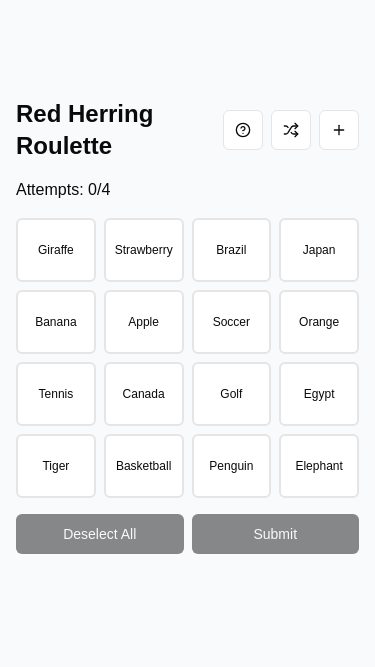
Test: Home Page › Failed Guesses › should show a hint when user is one word off from a category
Click the button "Apple".
click(144, 322)  # box [104,290,184,354]
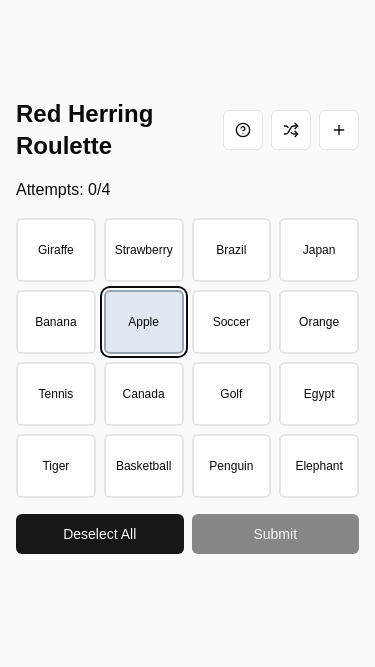
Click the button "Banana".
click(56, 322)  # box [16,290,96,354]
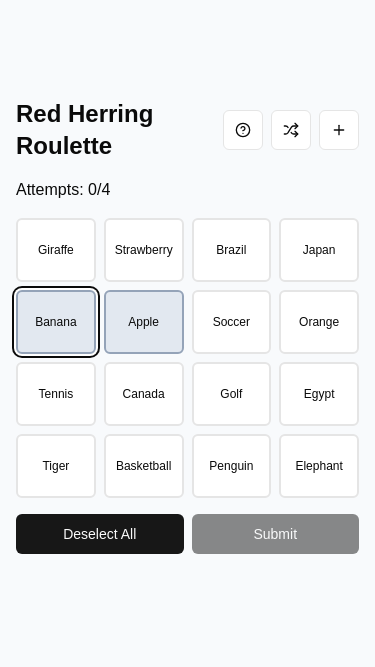
Click the button "Orange".
click(319, 322)  # box [279,290,359,354]
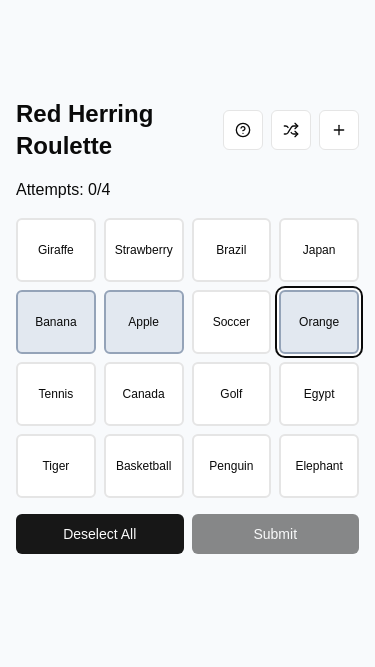
Click the button "Tiger".
click(56, 466)  # box [16,434,96,498]
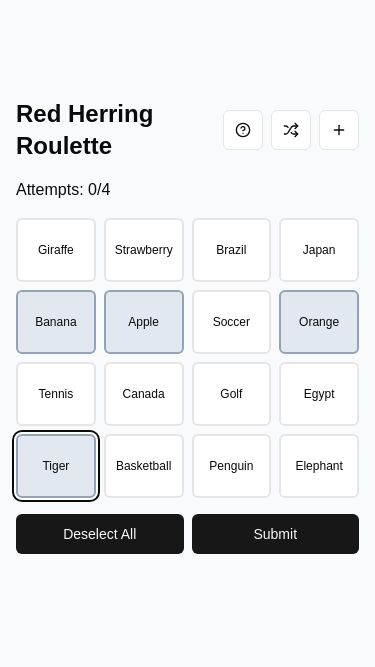
Click the button with test id "submit-button".
click(276, 534)  # box [192,514,360,554]
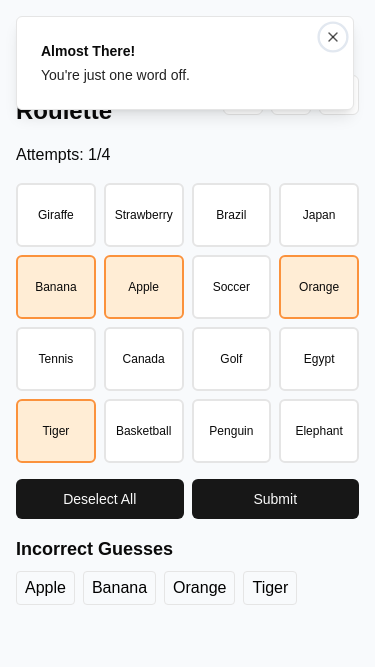
expect the list item with test id "toast" is shown: met, box [16,16,354,110]
expect the text "Almost There!" is shown: met, box [41,43,135,59]
expect the text "You're just one word off" is shown: met, box [41,67,190,83]
